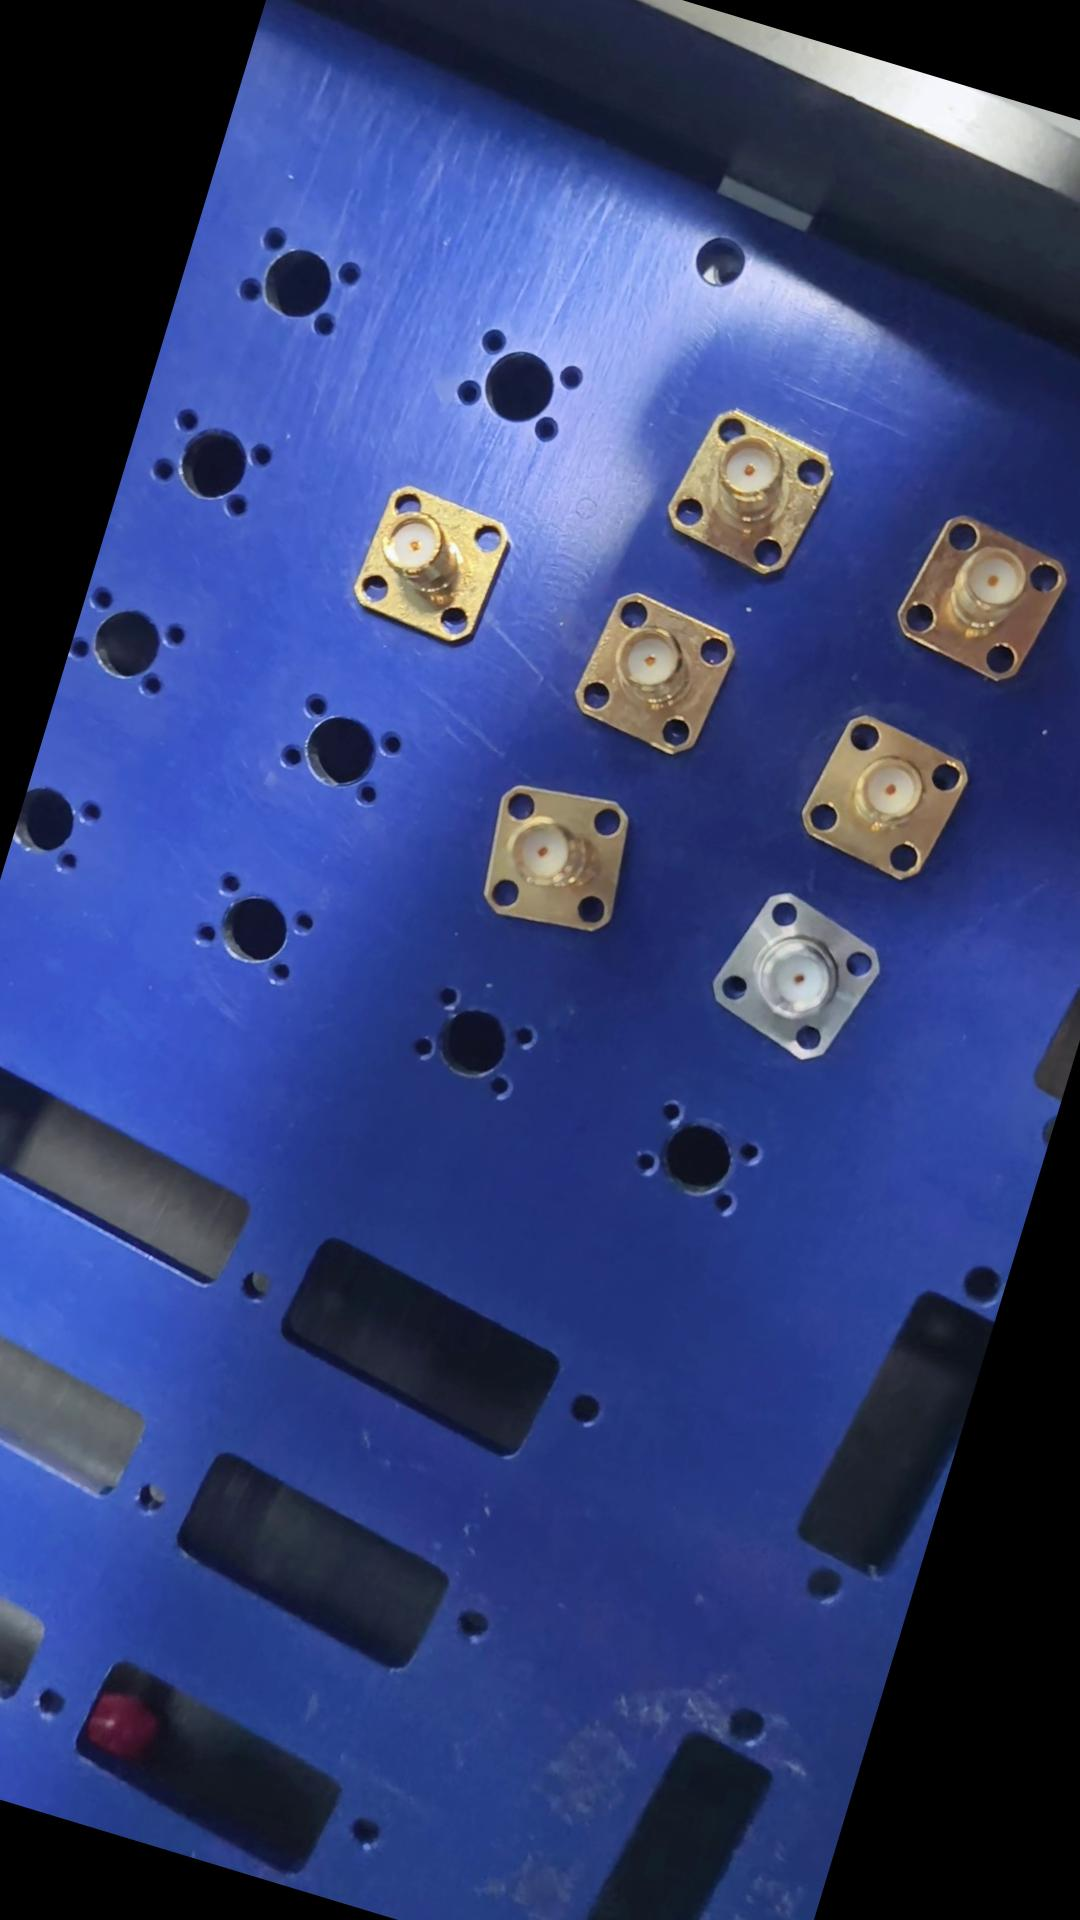SMA: (778, 698, 992, 895), (688, 870, 894, 1071), (448, 762, 645, 955), (876, 509, 1073, 691), (558, 578, 745, 766), (646, 400, 835, 584), (338, 469, 518, 661)
